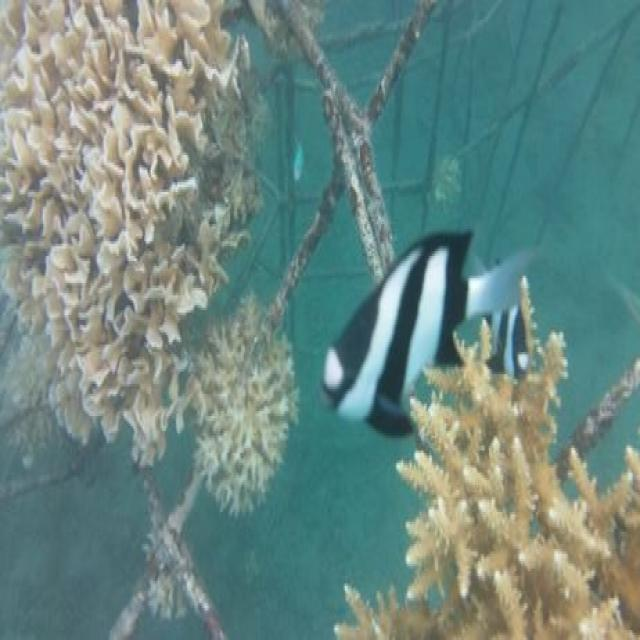Three_striped DasmselFish: (312, 228, 542, 436), (482, 299, 534, 380)
